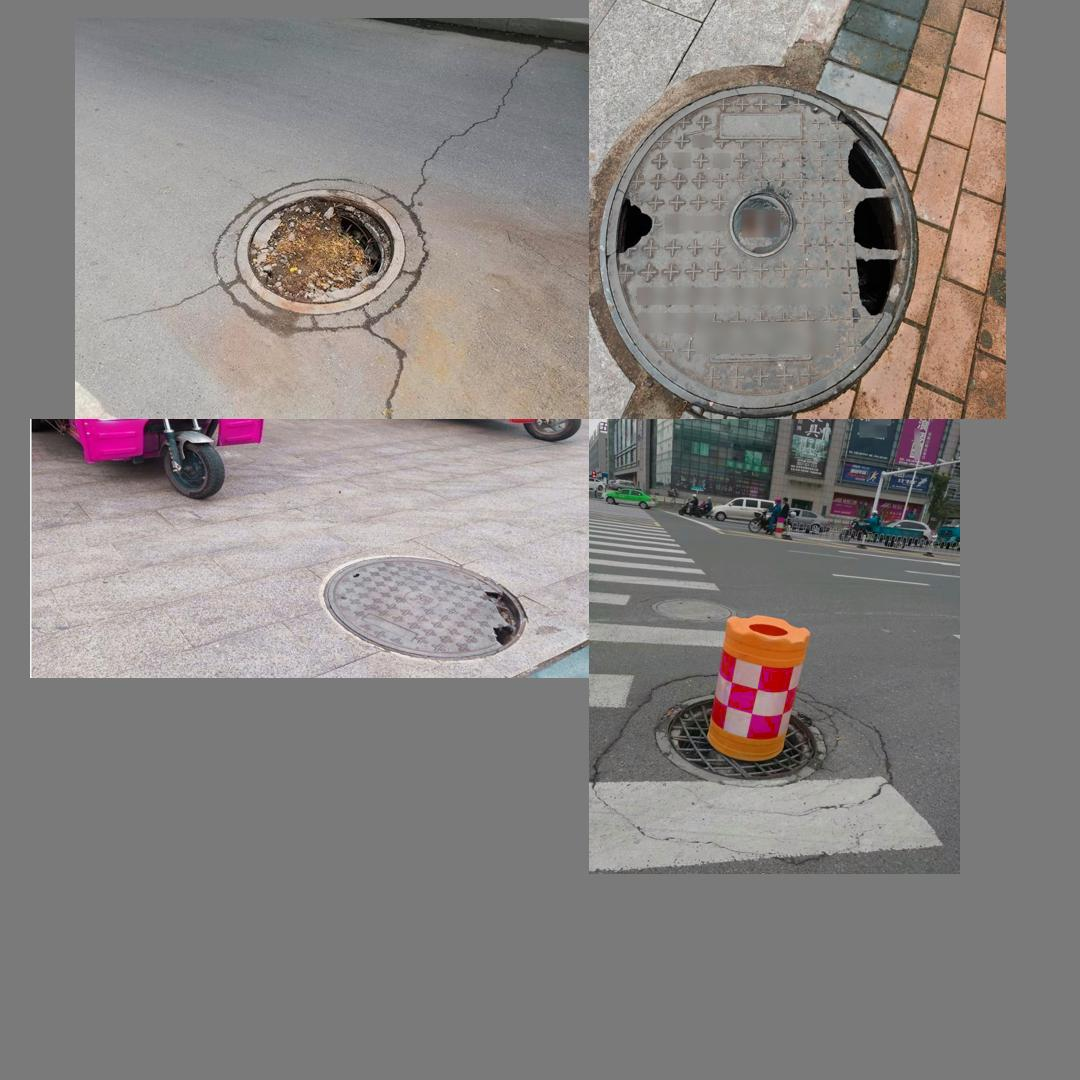broke: (604, 106, 909, 406), (219, 168, 438, 341), (328, 557, 529, 656), (655, 691, 827, 788)
